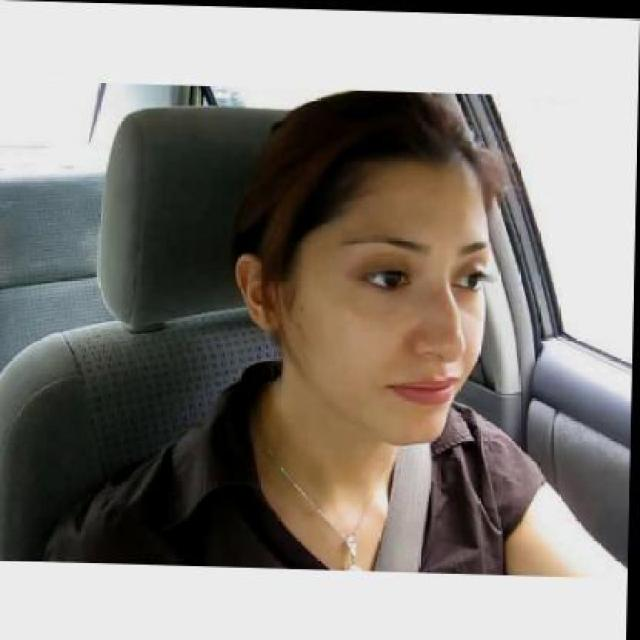attentif: (236, 86, 493, 445)
